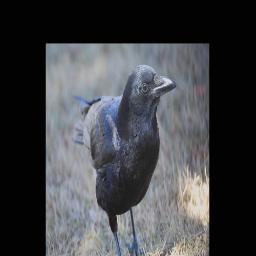Crow: (71, 63, 176, 256)
